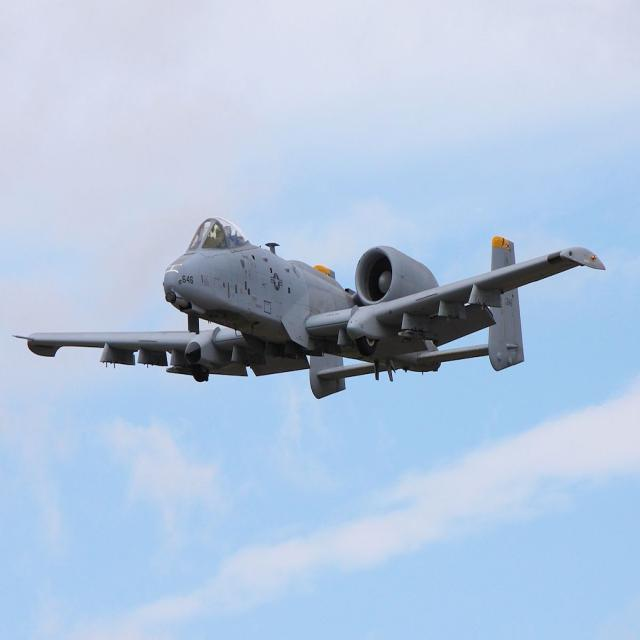A10: (13, 189, 610, 423)
